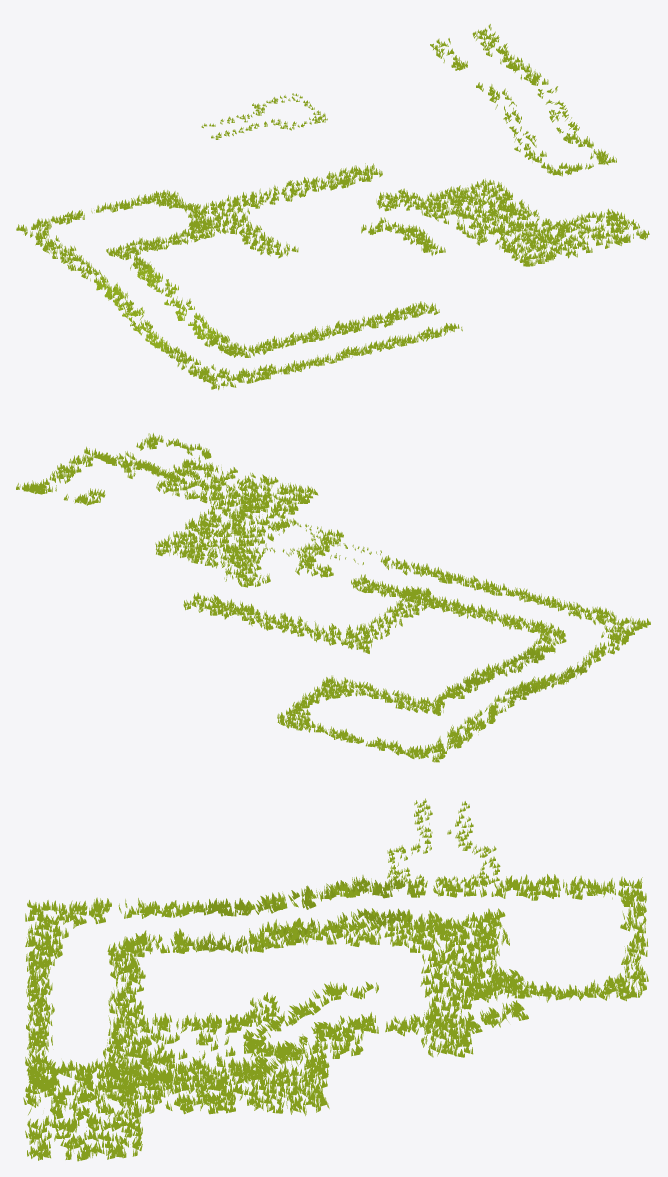
File: grass.fbx
3 views of the same model, one above another, from view 1: azimuth 30°, elevation 25°; view 2: azimuth 150°, elevation 25°; view 3: azimuth 270°, elevation 25° (orthographic). The views are drawn at different scales.
Visible parts, largest first — view 1: upperGrassPath, grassPath, superUpperGrass; view 2: upperGrassPath, grassPath, superUpperGrass; view 3: upperGrassPath, grassPath, superUpperGrass.
Part boxes in pixels (<box>): upperGrassPath: <box>194,24,649,266</box>; grassPath: <box>16,190,462,390</box>; superUpperGrass: <box>201,93,327,139</box>; upperGrassPath: <box>16,433,433,653</box>; grassPath: <box>277,555,650,762</box>; superUpperGrass: <box>244,518,381,564</box>; upperGrassPath: <box>23,917,528,1161</box>; grassPath: <box>25,874,648,1094</box>; superUpperGrass: <box>387,798,500,884</box>.
Bounding box in the file's own units: 29.02 × 9.53 × 23.13.
